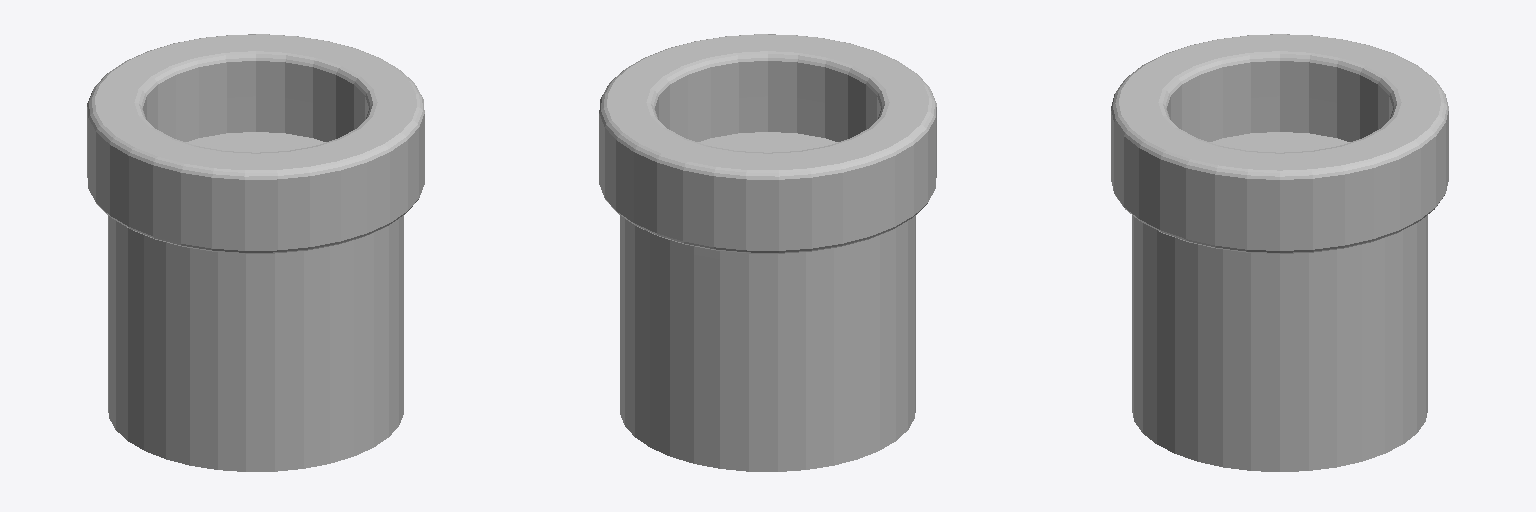
Rendered from pipe.obj.
3 views of the same model, side by side, from view 1: azimuth 30°, elevation 25°; view 2: azimuth 150°, elevation 25°; view 3: azimuth 270°, elevation 25° (orthographic).
Parts seen in each view (by area): view 1: Dokan__DokanMat00, Dokan__DokanMat01; view 2: Dokan__DokanMat00, Dokan__DokanMat01; view 3: Dokan__DokanMat00, Dokan__DokanMat01.
Boxes of the visible parts, x1=… form: Dokan__DokanMat00: x1=87, y1=34, x2=424, y2=471; Dokan__DokanMat01: x1=143, y1=61, x2=368, y2=152; Dokan__DokanMat00: x1=599, y1=34, x2=936, y2=471; Dokan__DokanMat01: x1=655, y1=61, x2=880, y2=152; Dokan__DokanMat00: x1=1111, y1=34, x2=1448, y2=471; Dokan__DokanMat01: x1=1167, y1=61, x2=1392, y2=152.
Bounding box in the file's own units: 199 × 199 × 199.